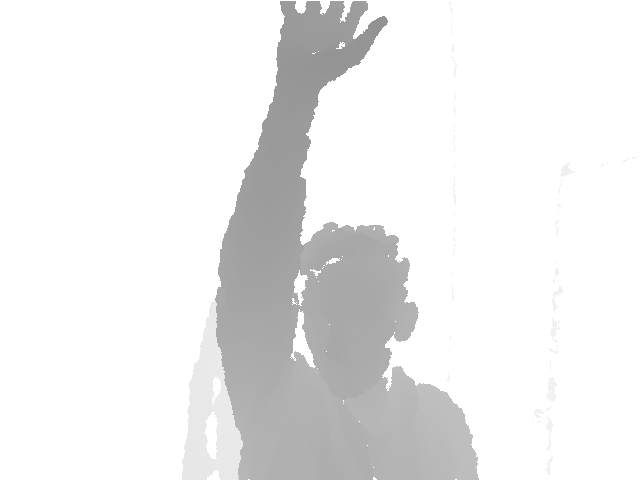hand: (275, 1, 388, 87)
head: (294, 222, 419, 405)
person: (214, 1, 481, 480)
